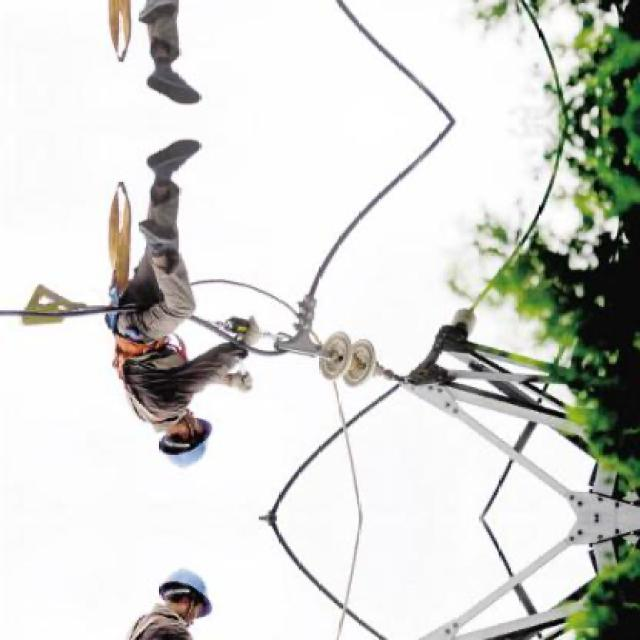con casco: (142, 390, 255, 487)
